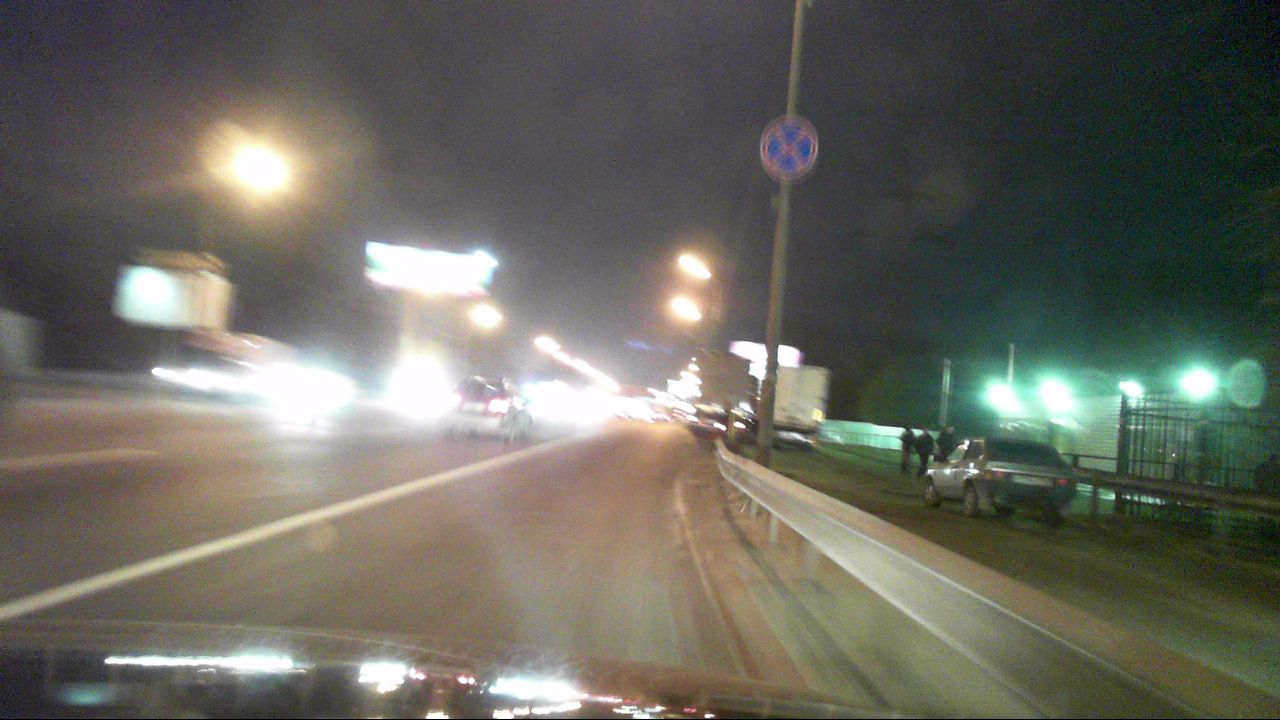No Parking: (758, 117, 817, 178)
